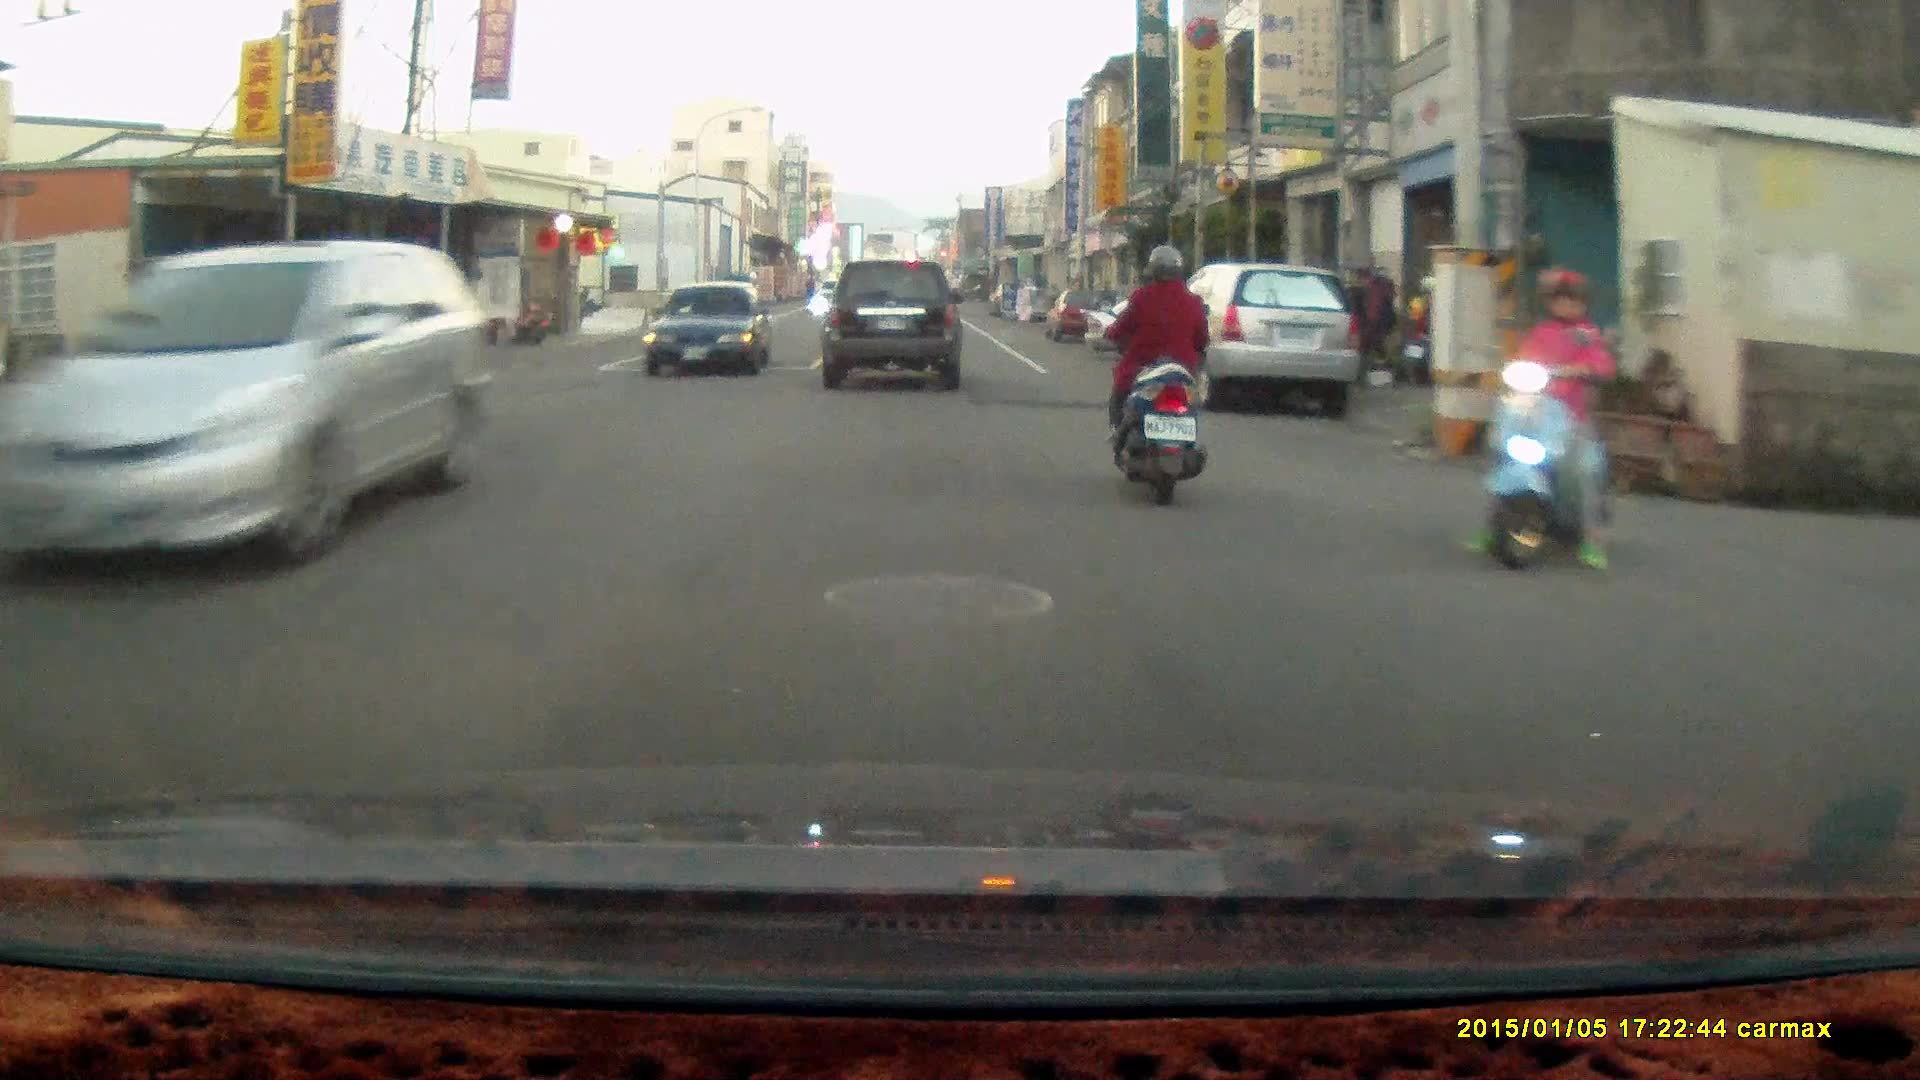rider: (1455, 268, 1615, 575), (1104, 240, 1208, 506)
vehicle: (1, 236, 498, 588), (1151, 261, 1360, 413), (822, 257, 965, 394), (649, 279, 776, 379)
